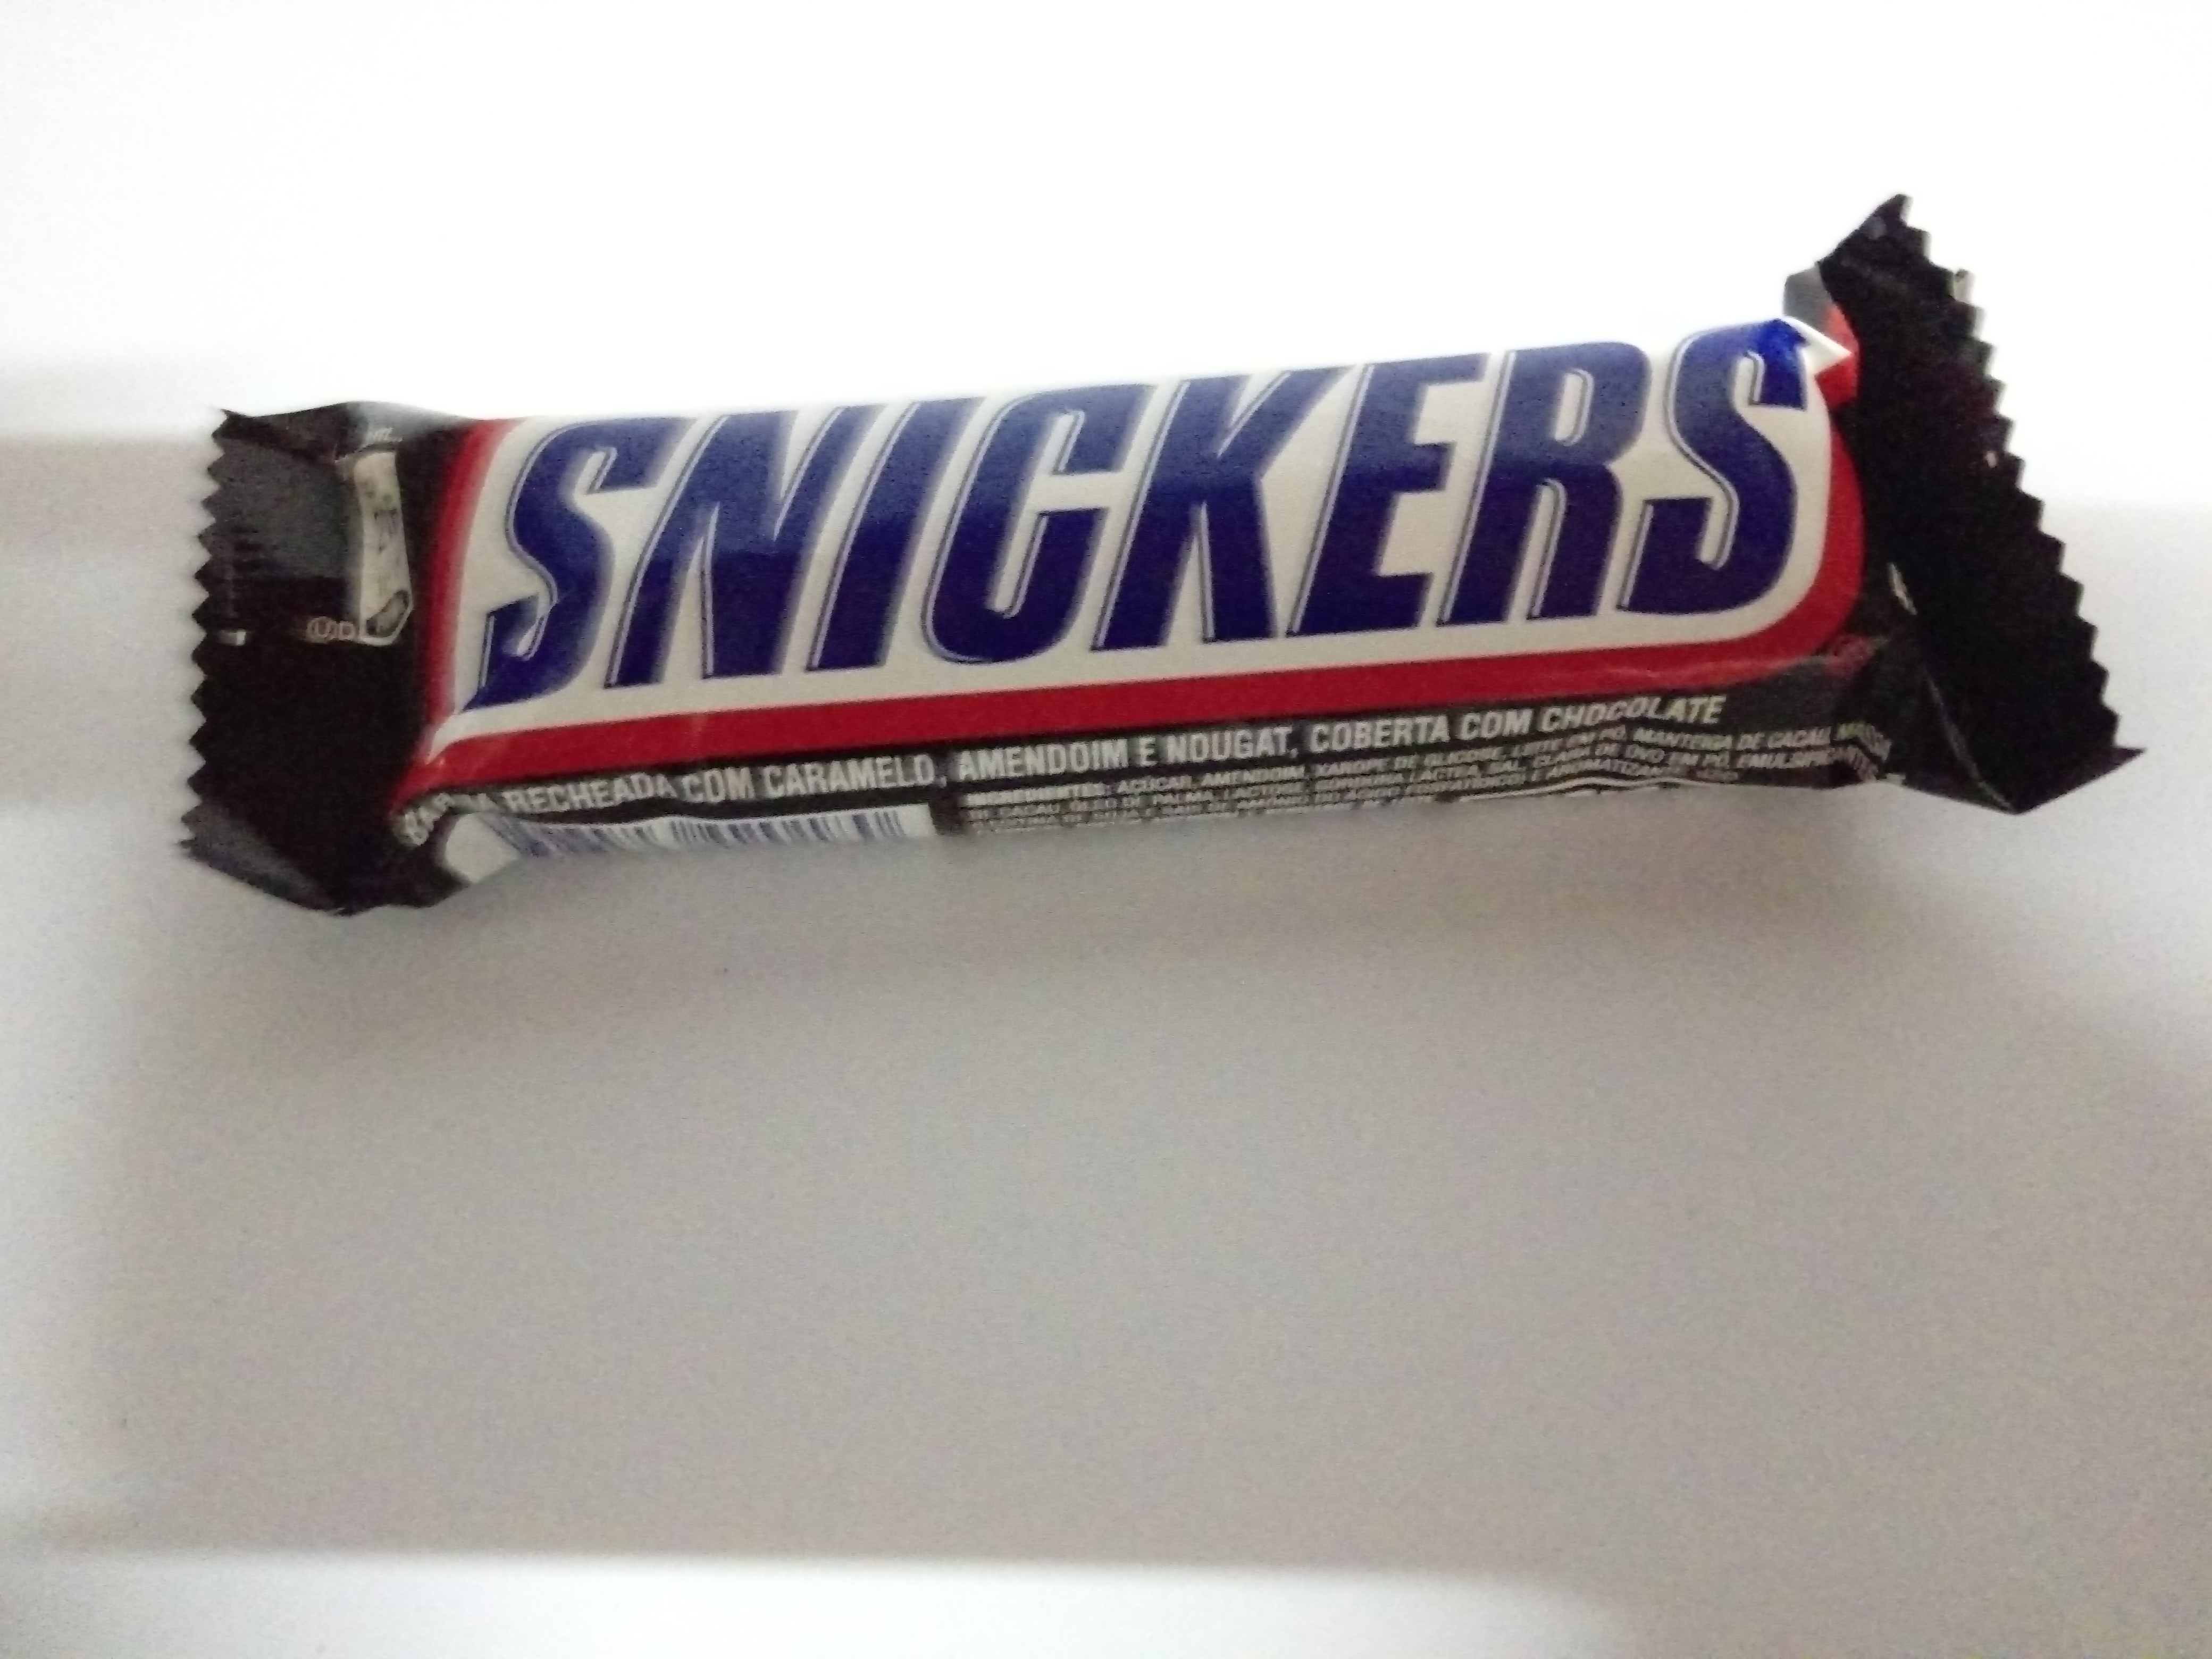snickers: (129, 171, 2170, 927)
